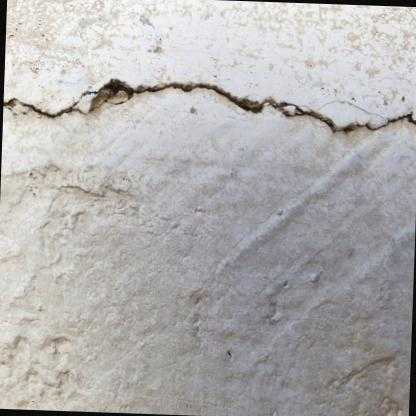crack: (3, 79, 416, 131)
